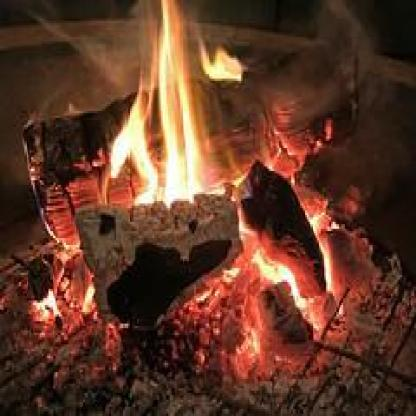fire: (32, 4, 338, 350)
